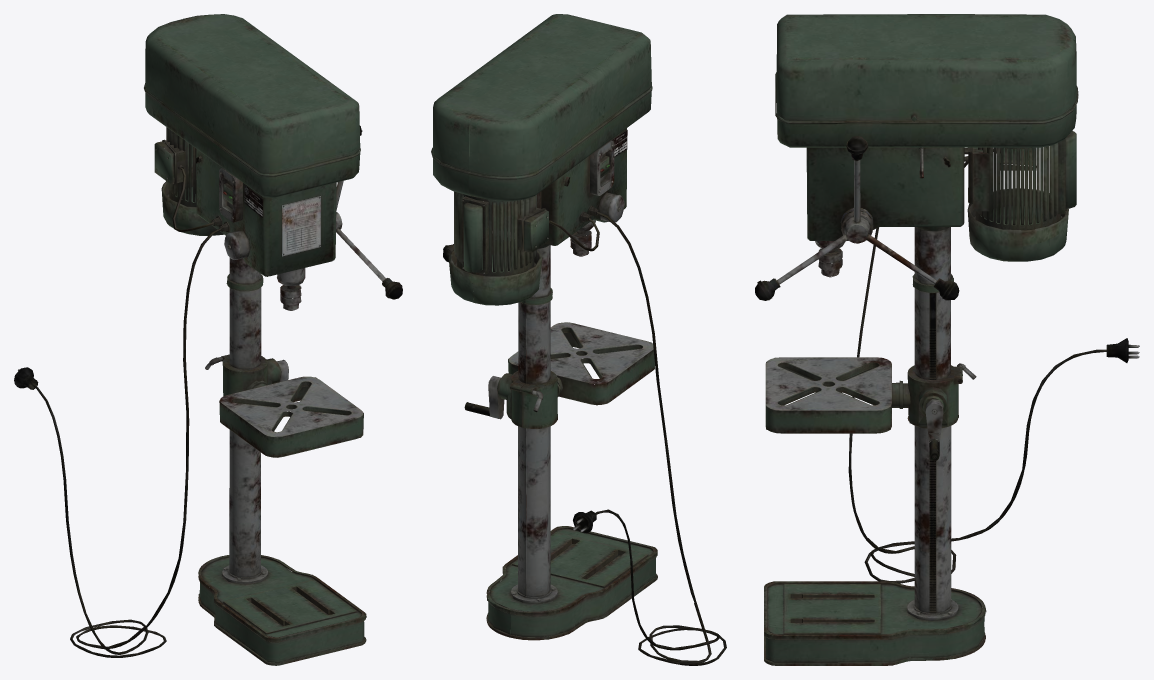
File: ph_drill_press.gltf
The picture shows the model from 3 angles, left to right: view 1: azimuth 30°, elevation 25°; view 2: azimuth 150°, elevation 25°; view 3: azimuth 270°, elevation 25°; orthographic projection. The views are drawn at different scales.
Parts seen in each view (by area): view 1: Body; view 2: Body; view 3: Body.
Boxes of the visible parts, x1,y1,x2,y2 form: Body: (14,14,402,665); Body: (431,14,726,665); Body: (755,14,1139,665).
Size of the model in its own units: 0.5283 by 1.05 by 0.6095.
1 material, 1 textured.
